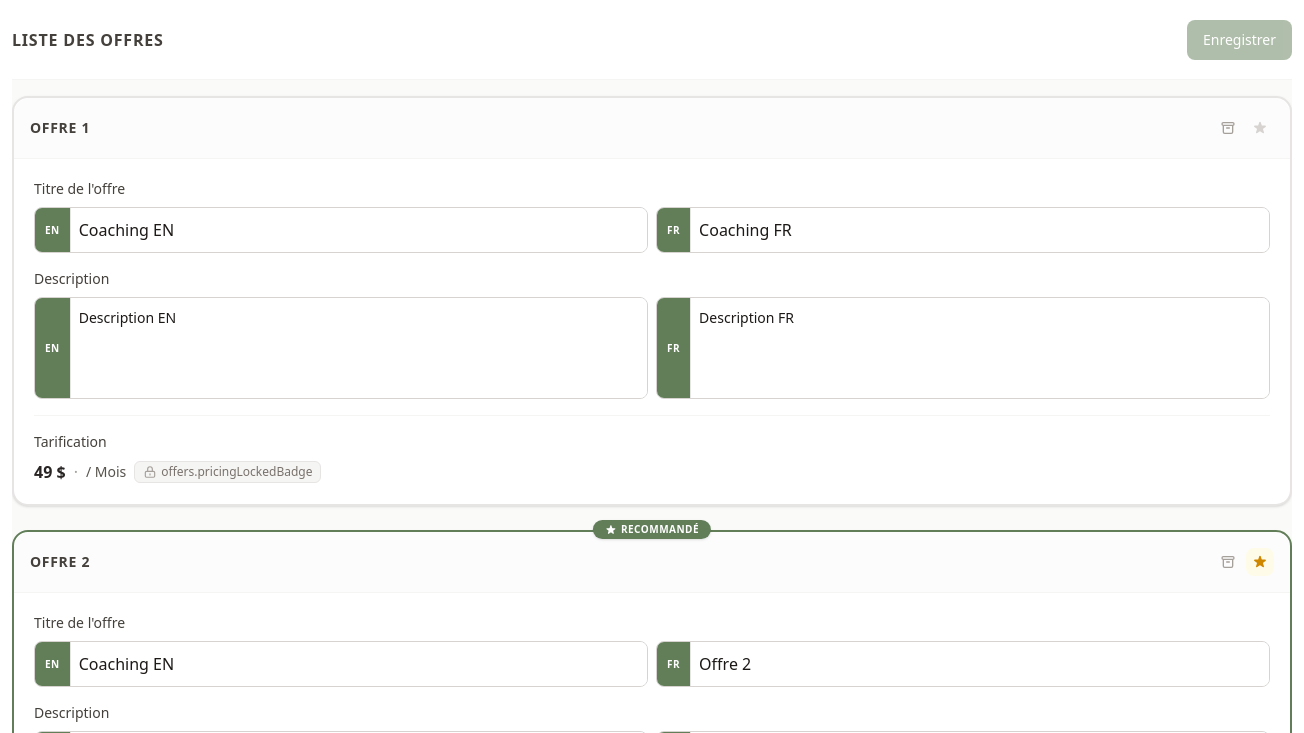
Test: OffersForm — offre recommandée › active Enregistrer quand on déplace la recommandation vers l’offre 1
Expected: the button "Enregistrer" is disabled, [1187, 20, 1292, 60]
Click the button titled "Mettre en avant". click: (1260,128)
box: [1246, 114, 1274, 142]
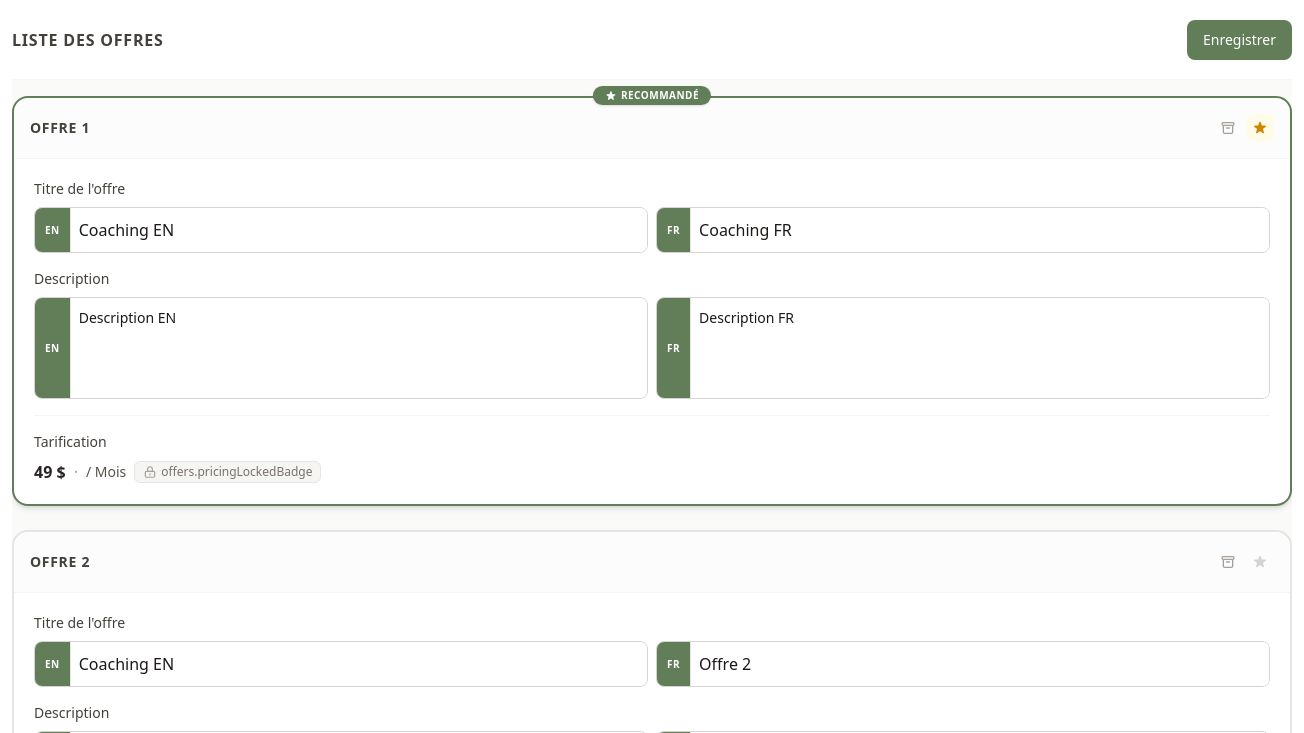
Expected: the button "Enregistrer" is enabled, [1187, 20, 1292, 60]
